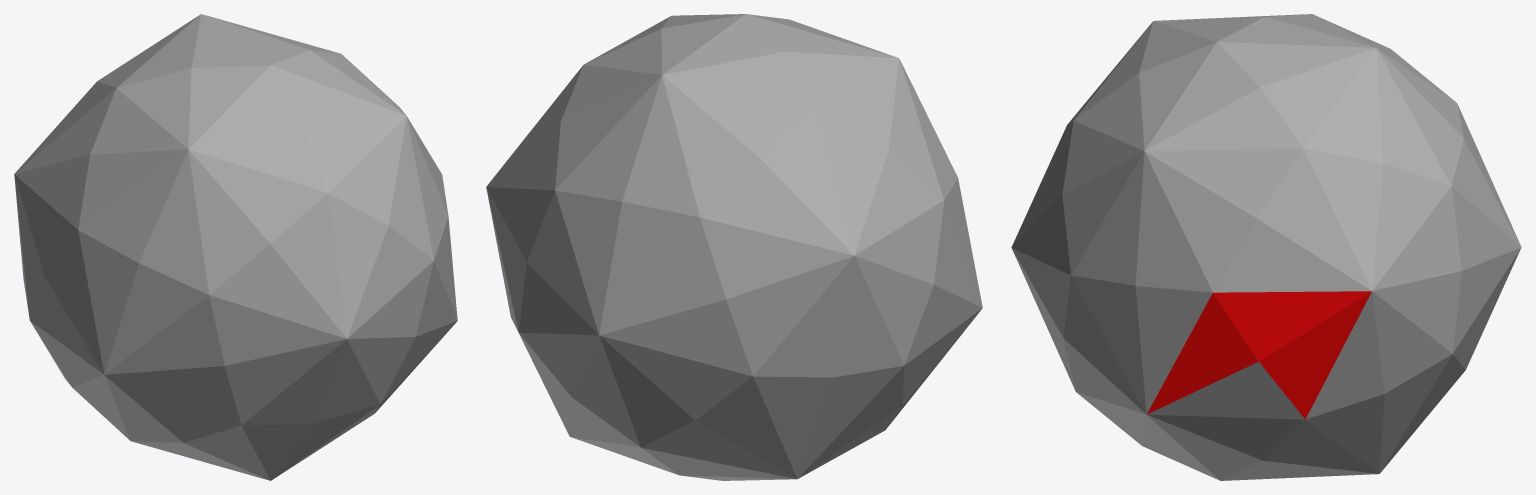
File: DisdyakisTriacontahedron3.glb
3 views of the same model, side by side, from view 1: azimuth 30°, elevation 25°; view 2: azimuth 150°, elevation 25°; view 3: azimuth 270°, elevation 25° (orthographic). The views are drawn at different scales.
Size of the model in its own units: 7.58 by 7.56 by 8.25.
